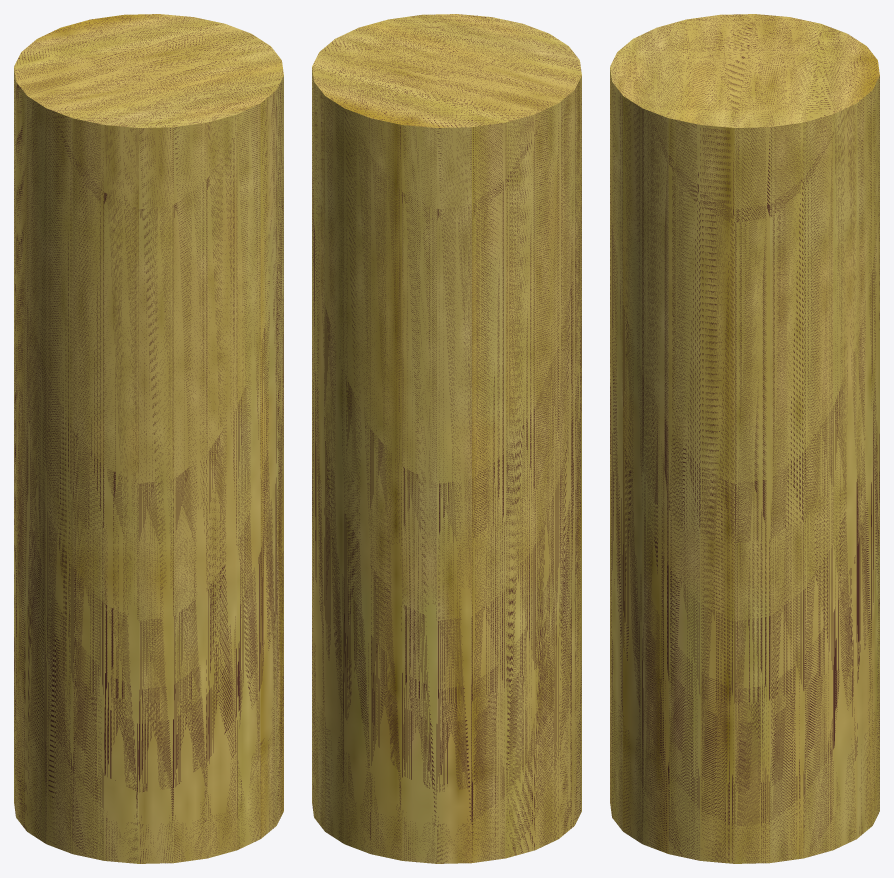
Rendered from original-36.obj.
3 renders of one model, left to right at view 1: azimuth 30°, elevation 25°; view 2: azimuth 150°, elevation 25°; view 3: azimuth 270°, elevation 25°, orthographic.
Parts seen in each view (by area): view 1: Component_8_4/Component_8/mesh17/mesh17-geometry#mesh17-geometry; view 2: Component_8_4/Component_8/mesh17/mesh17-geometry#mesh17-geometry; view 3: Component_8_4/Component_8/mesh17/mesh17-geometry#mesh17-geometry.
Part boxes in pixels (left/top/right/bottom): Component_8_4/Component_8/mesh17/mesh17-geometry#mesh17-geometry: left=14, top=14, right=283, bottom=863; Component_8_4/Component_8/mesh17/mesh17-geometry#mesh17-geometry: left=312, top=14, right=581, bottom=863; Component_8_4/Component_8/mesh17/mesh17-geometry#mesh17-geometry: left=610, top=14, right=879, bottom=863.
Size of the model in its own units: 0.00655 by 0.0197 by 0.00655.
